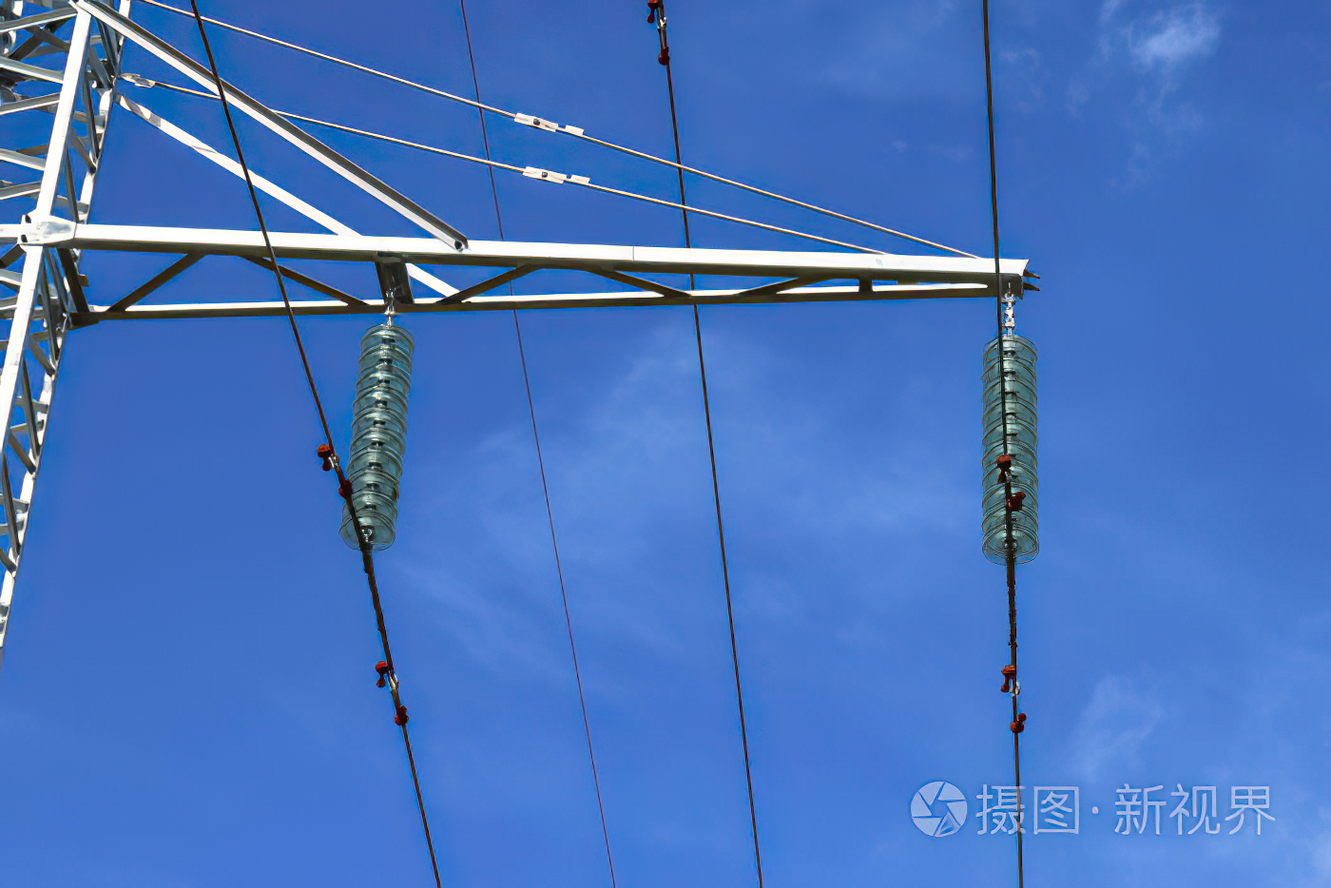insulator: (340, 327, 415, 550), (981, 335, 1044, 559)
